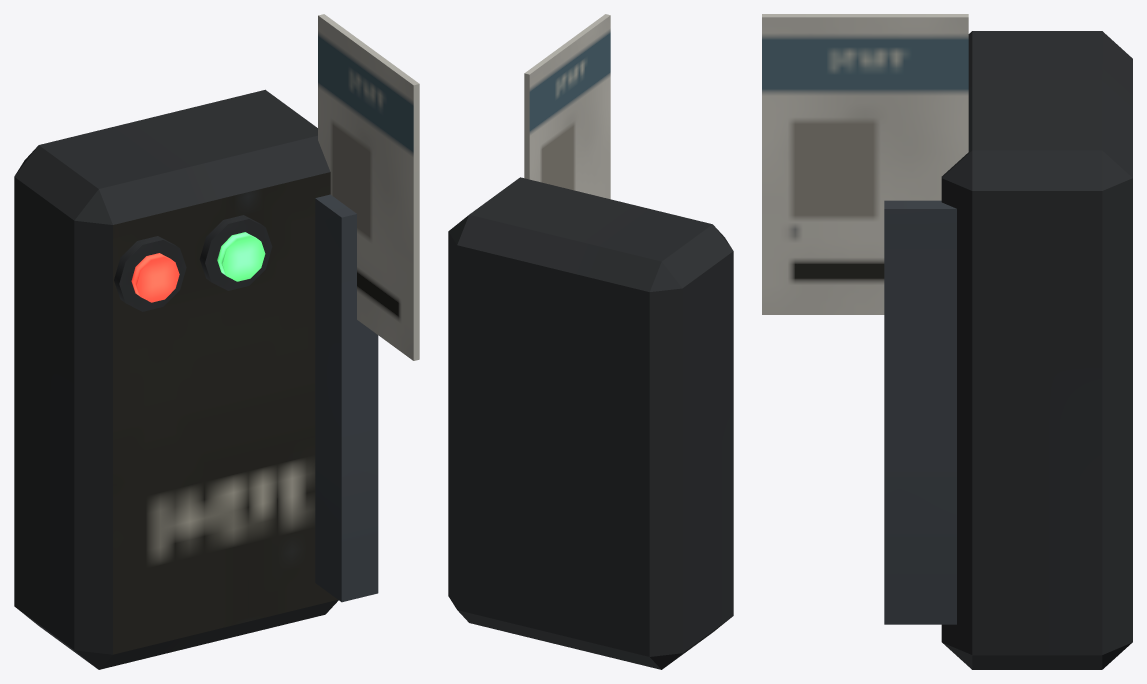
The model's file is card_reader.fbx.
The picture shows the model from 3 angles, left to right: view 1: azimuth 30°, elevation 25°; view 2: azimuth 150°, elevation 25°; view 3: azimuth 270°, elevation 25°; orthographic projection. The views are drawn at different scales.
Visible parts, largest first — view 1: card_reader, card_reader_card, card_reader_lamp, card_reader_lamp_idle; view 2: card_reader, card_reader_card; view 3: card_reader, card_reader_card.
Part boxes in pixels (x1,y1,x2,y2): card_reader: [14, 89, 378, 669]; card_reader_card: [318, 14, 419, 360]; card_reader_lamp: [217, 232, 265, 281]; card_reader_lamp_idle: [131, 253, 179, 302]; card_reader: [448, 177, 733, 669]; card_reader_card: [524, 14, 610, 199]; card_reader: [884, 31, 1132, 669]; card_reader_card: [762, 14, 968, 314].
Size of the model in its own units: 0.09 by 0.188 by 0.097.
Materials: 1 (1 with a texture image).
